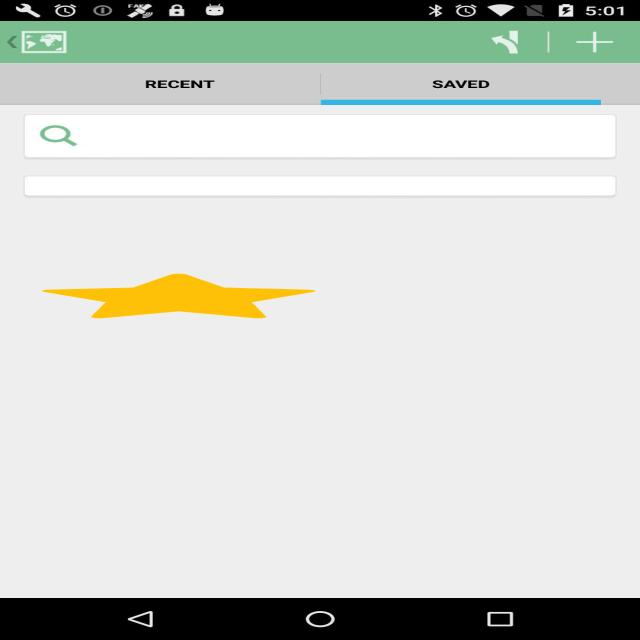forced continuity: (42, 274, 315, 318)
